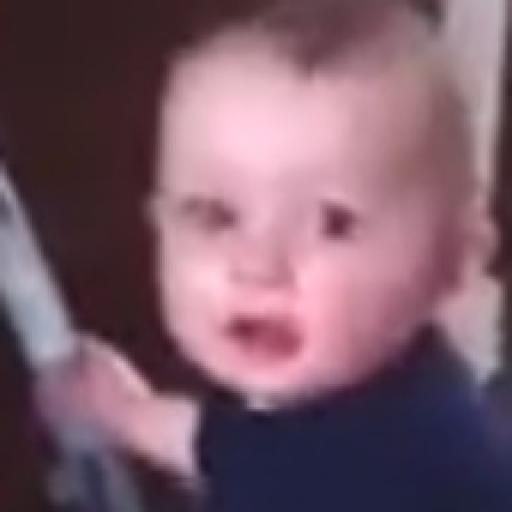Autism: (153, 14, 512, 410)
